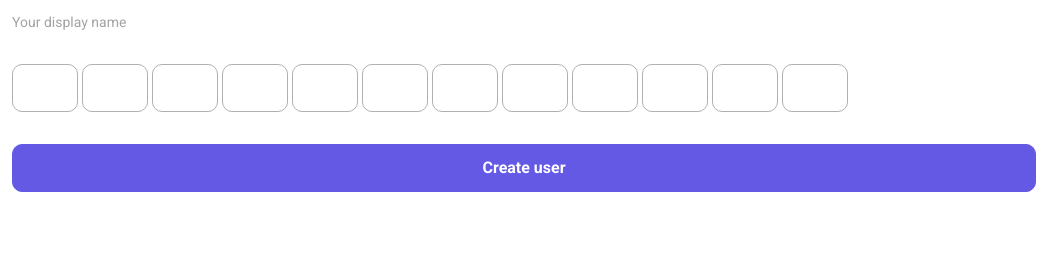
Scenario: Form › shows validation errors message when form is submitted with empty fields
Click the button "Create user" at (524, 168), box left=12, top=144, right=1036, bottom=192
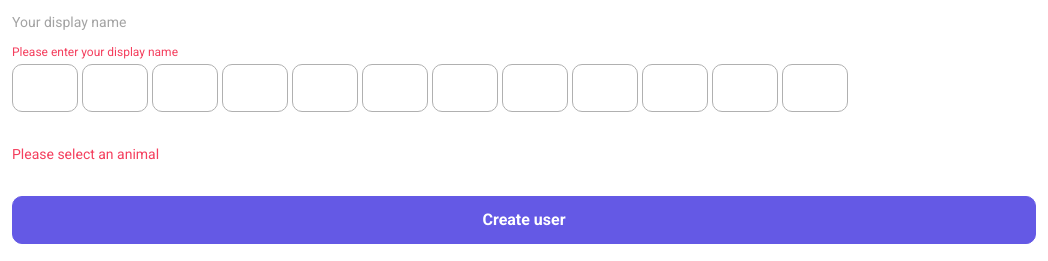
Check: the text "Please enter your display name" is shown, box left=12, top=44, right=178, bottom=60
